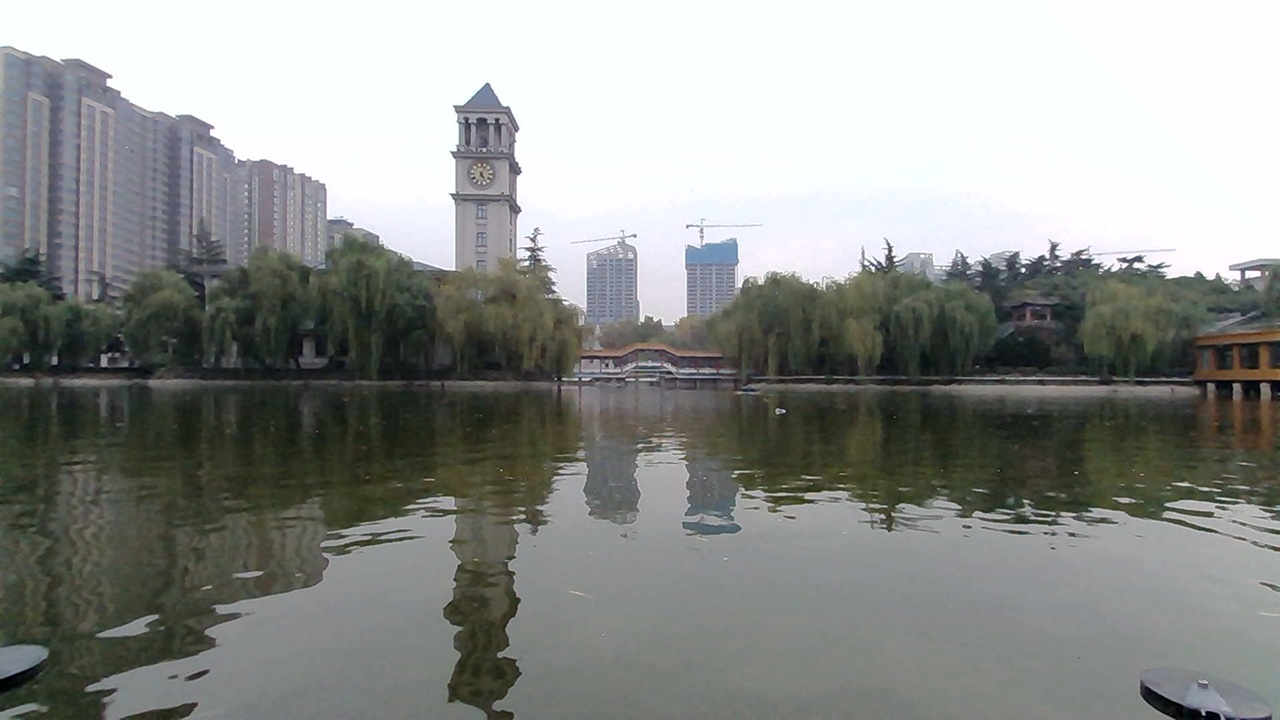bottle: (757, 397, 803, 421)
